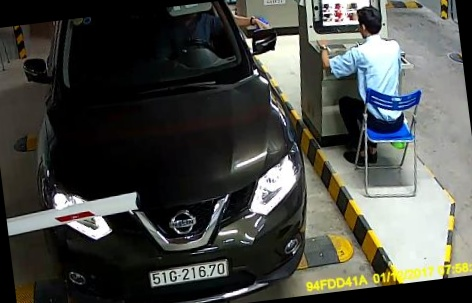plate: (138, 254, 239, 290)
